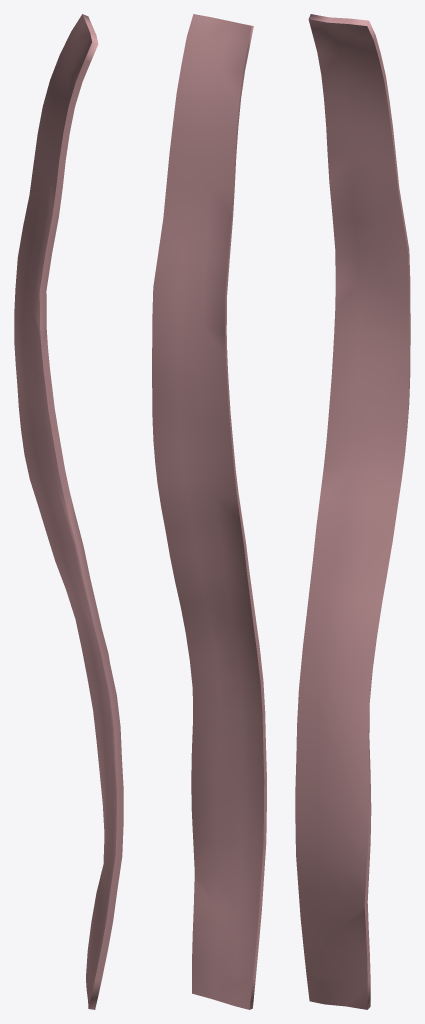
The picture shows the model from 3 angles, left to right: view 1: azimuth 90°, elevation 25°; view 2: azimuth 150°, elevation 25°; view 3: azimuth 330°, elevation 25°; orthographic projection.
Parts seen in each view (by area): view 1: ZA_35756f58ffdf15b7; view 2: ZA_35756f58ffdf15b7; view 3: ZA_35756f58ffdf15b7.
Boxes of the visible parts, box(x1,y1,x2,y2) form: ZA_35756f58ffdf15b7: box(14, 14, 123, 1009); ZA_35756f58ffdf15b7: box(152, 14, 266, 1009); ZA_35756f58ffdf15b7: box(295, 14, 410, 1009).
Size of the model in its own units: 0.0327 by 0.4659 by 0.0477.
